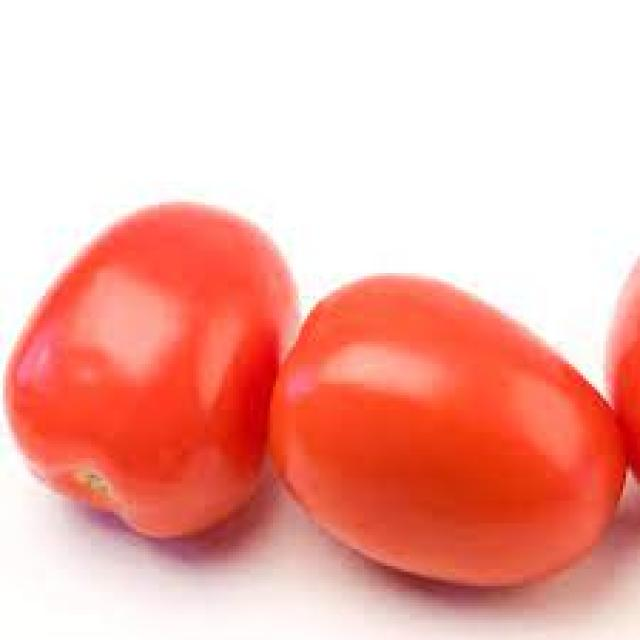Fresh_tomato: (13, 172, 294, 602), (300, 247, 605, 617), (586, 227, 640, 483)
